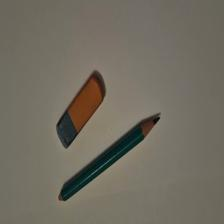eraser: (57, 76, 106, 150)
pencil: (60, 118, 161, 203)
